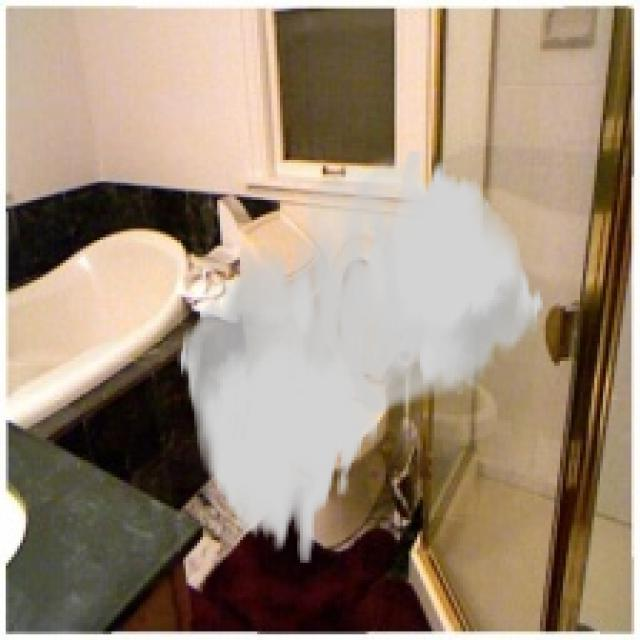Smoke: (177, 148, 546, 563)
